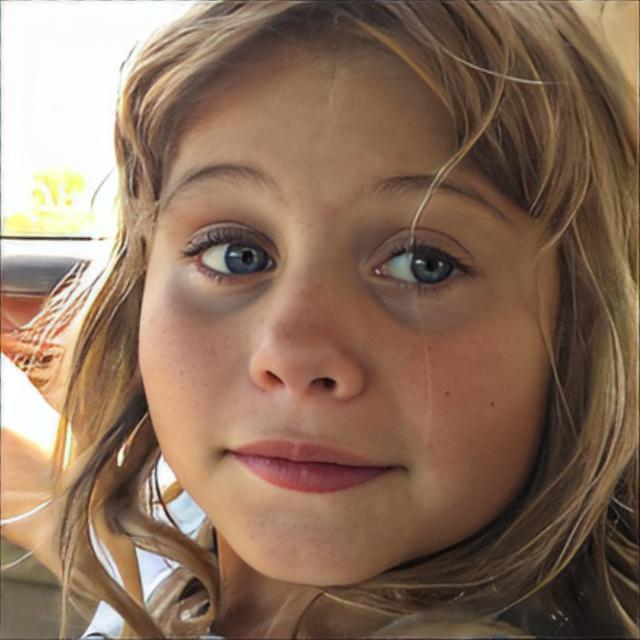surprise: (136, 0, 564, 588)
